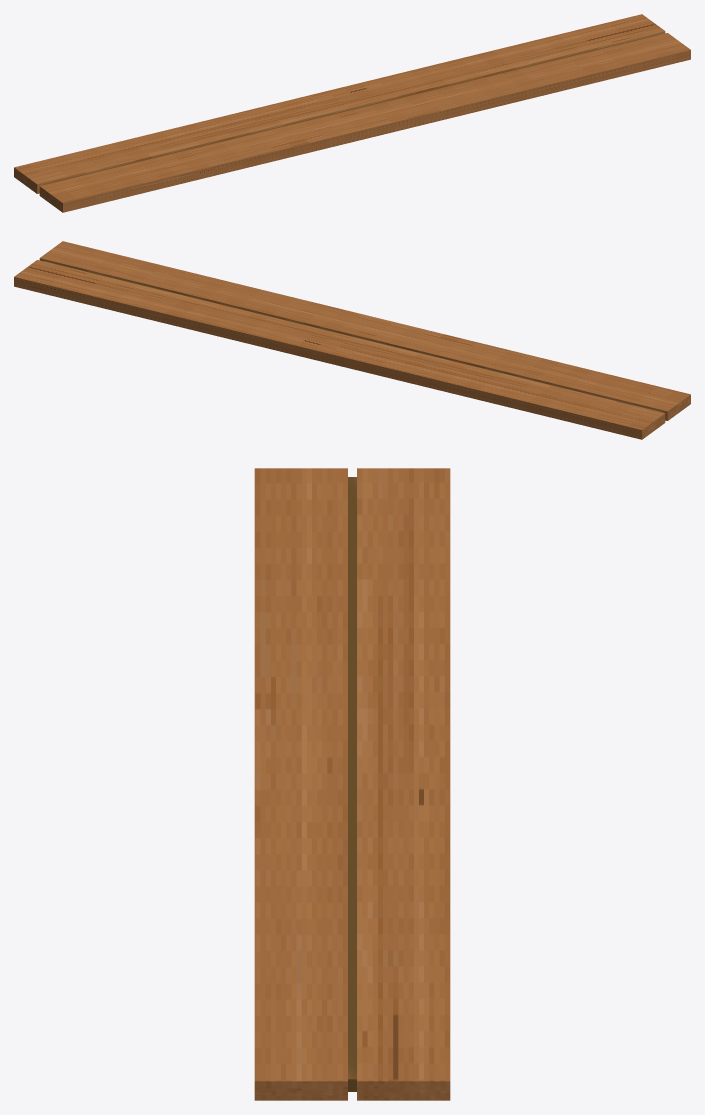
The model's file is Righello.fbx.
3 views of the same model, one above another, from view 1: azimuth 30°, elevation 25°; view 2: azimuth 150°, elevation 25°; view 3: azimuth 270°, elevation 25° (orthographic). The views are drawn at different scales.
Parts seen in each view (by area): view 1: Cube.008; view 2: Cube.008; view 3: Cube.008.
Boxes of the visible parts, box(x1,y1,x2,y2) form: Cube.008: box(14, 14, 690, 212); Cube.008: box(14, 241, 690, 439); Cube.008: box(254, 468, 450, 1100).
Bounding box in the file's own units: 0.125 × 0.00185 × 0.0168.
Materials: 2 (2 with a texture image).
